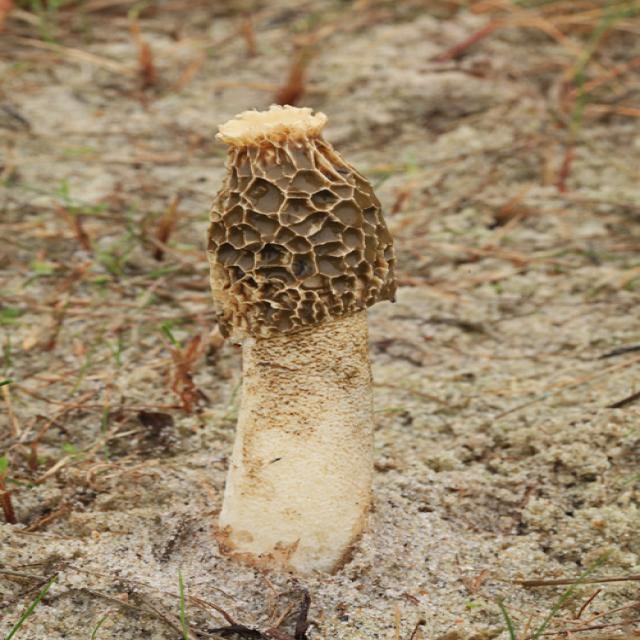Dictyophora indusiate: (203, 107, 402, 565)
